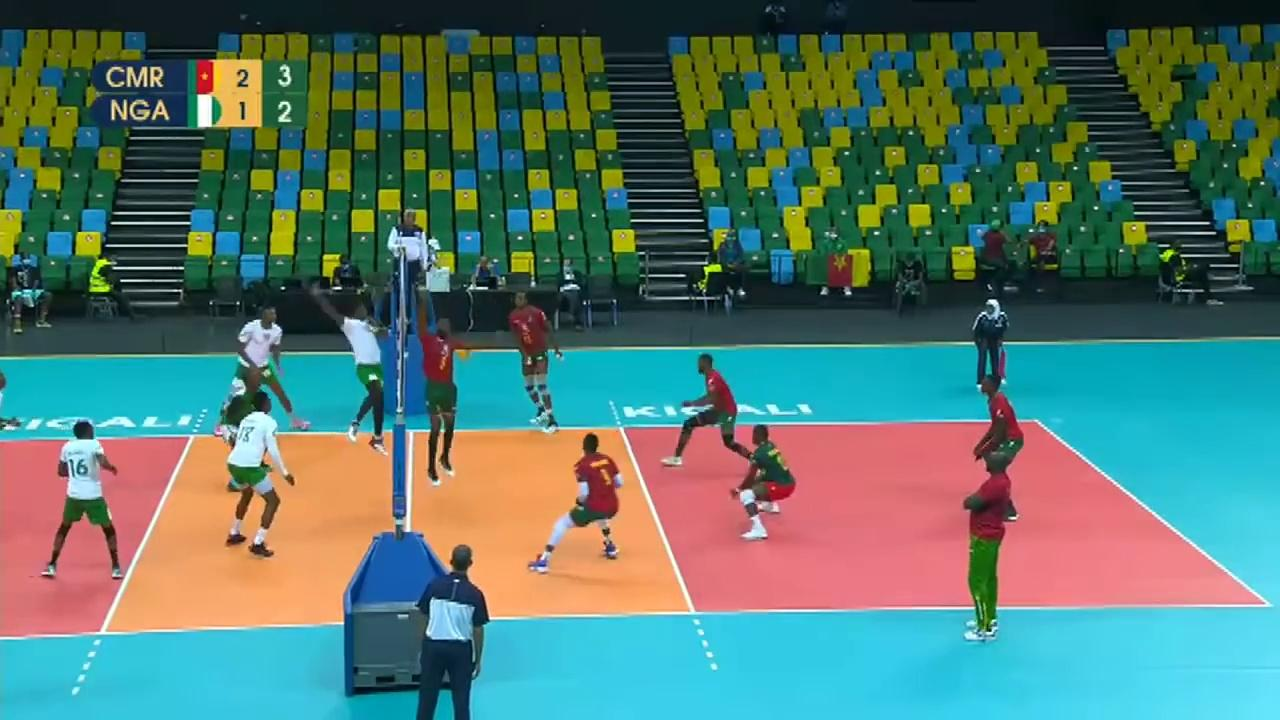player: (526, 431, 627, 569), (48, 420, 121, 586), (667, 353, 766, 471), (224, 394, 297, 553), (225, 300, 308, 434), (323, 286, 387, 451), (417, 313, 466, 482), (503, 289, 561, 430), (732, 425, 802, 536), (977, 373, 1024, 521), (221, 372, 275, 492)
refree: (410, 541, 491, 720), (389, 208, 436, 311), (976, 301, 1014, 391)
